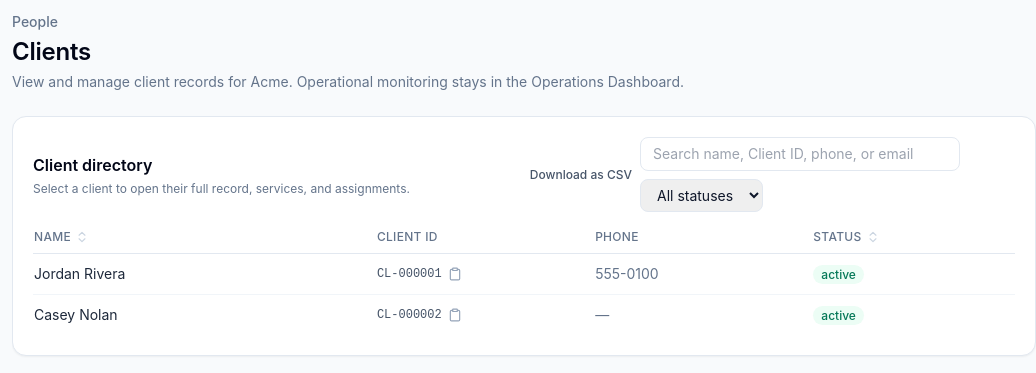
it: ClientsPage › shows the Client ID column, copies it, and supports searching by Client ID
The image size is (1036, 373).
Expected: the link "Jordan Rivera" is shown, [34,265,125,282]
Expected: the text "CL-000001" is shown, [377,266,442,282]
Click the button named "Copy Client ID for Jordan Rivera" at (455, 274), box [448,267,462,281]
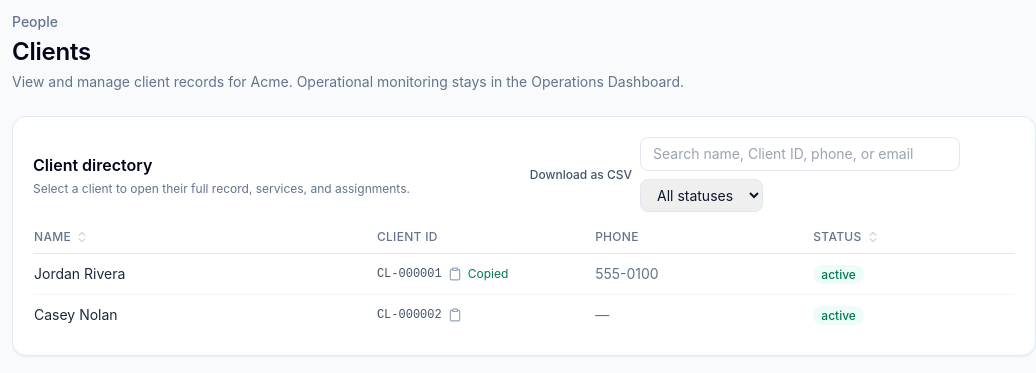
Type "CL-000002" into the search field named "Search clients" at (800, 154), box [640,137,960,171]
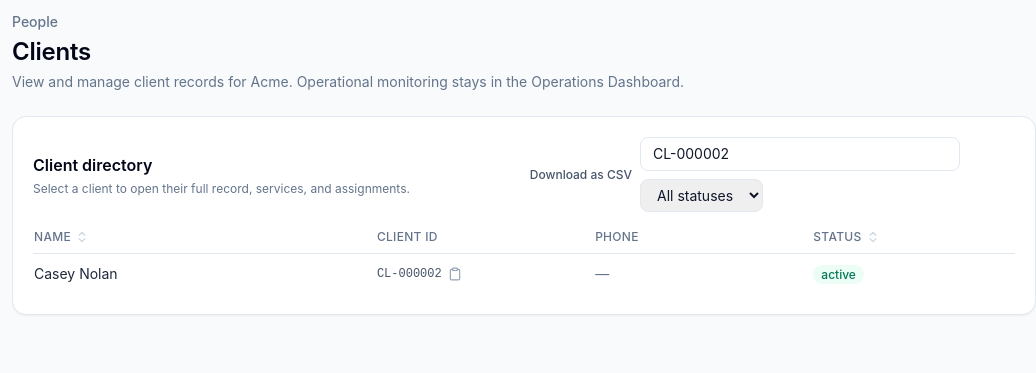
Expected: the link "Casey Nolan" is shown, [34,265,118,282]
Expected: the link "Jordan Rivera" is gone
